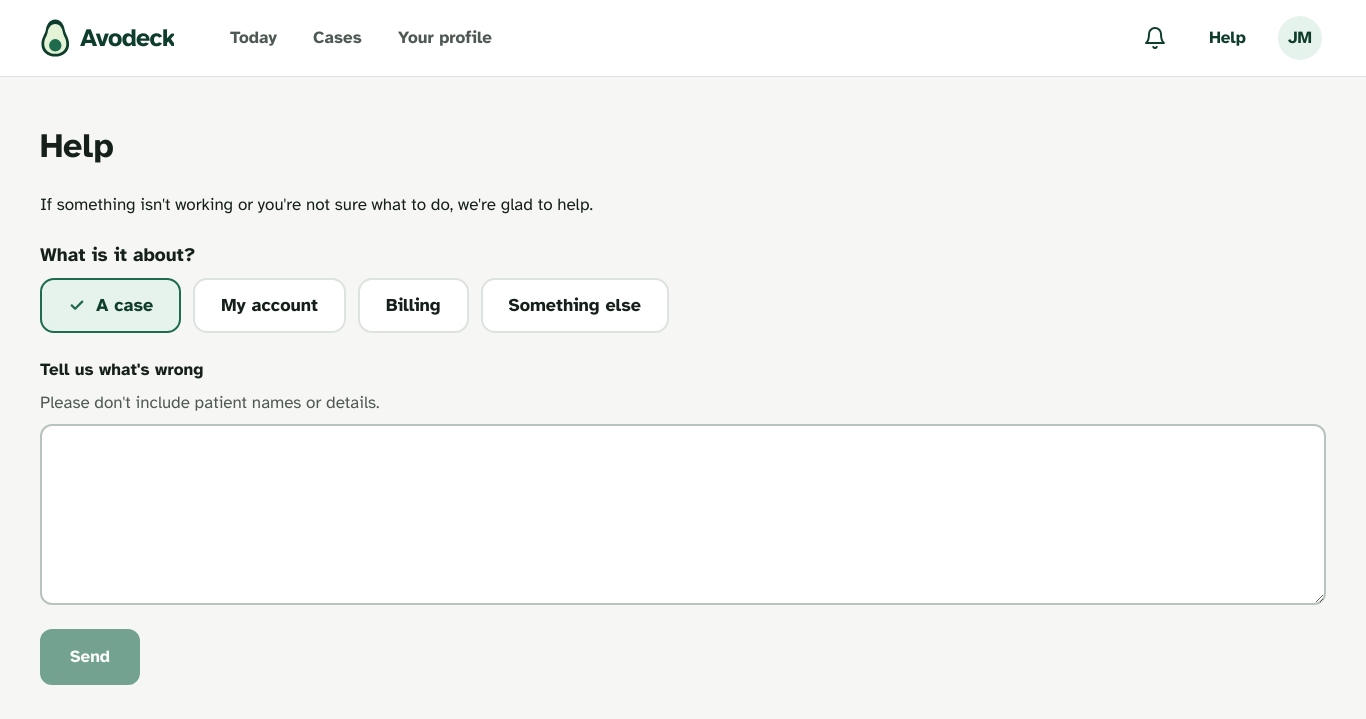
any other failure is a plain message and keeps the words
Type "hello" into the text box labelled "Tell us what's wrong" at x=683, y=514, box [40, 424, 1326, 604]
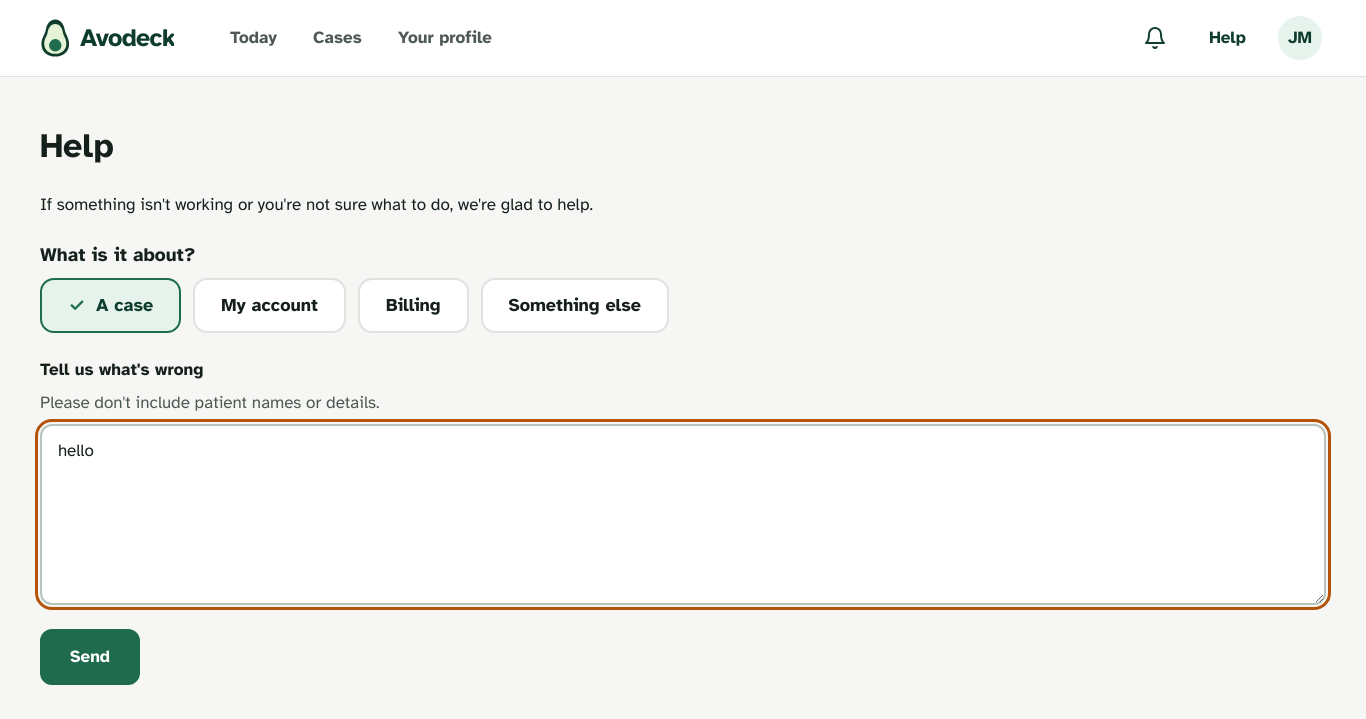
Click the button "Send" at x=90, y=656, box [40, 628, 140, 684]
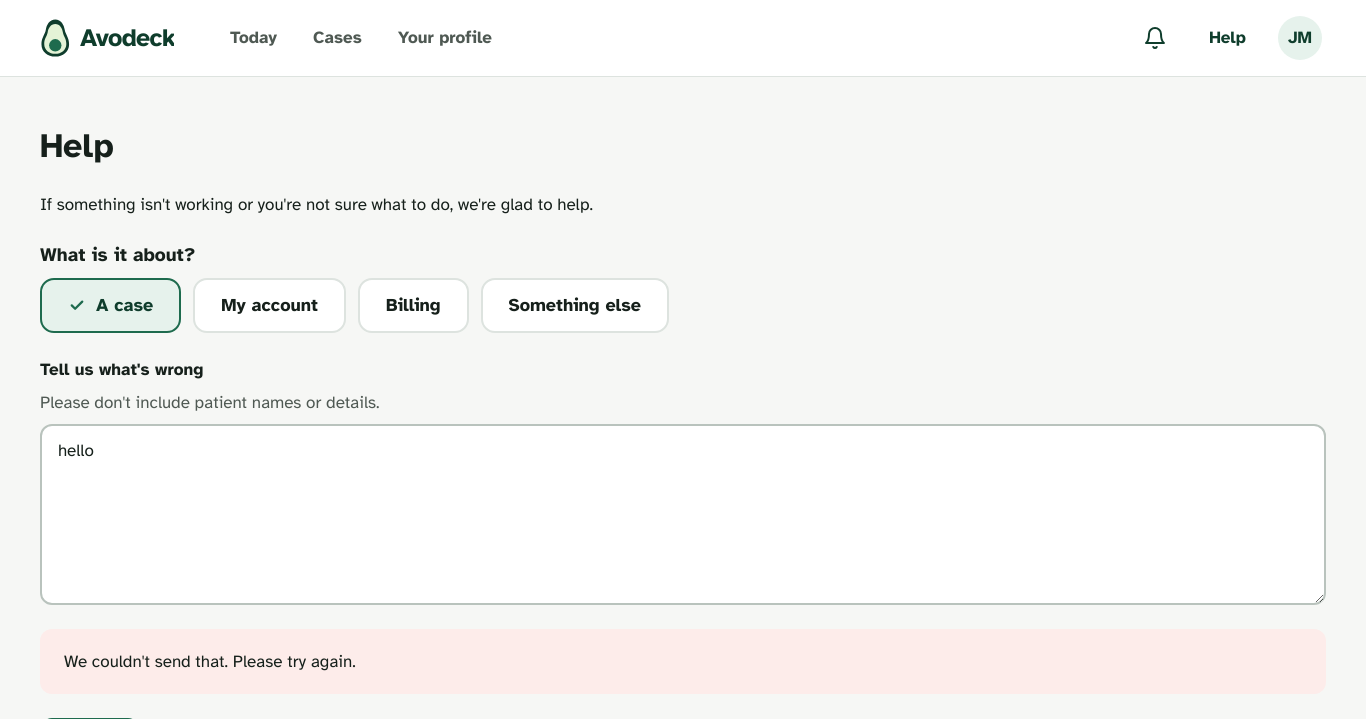
Check: the text "We couldn't send that. Please try again." is shown, box [40, 628, 1326, 694]
